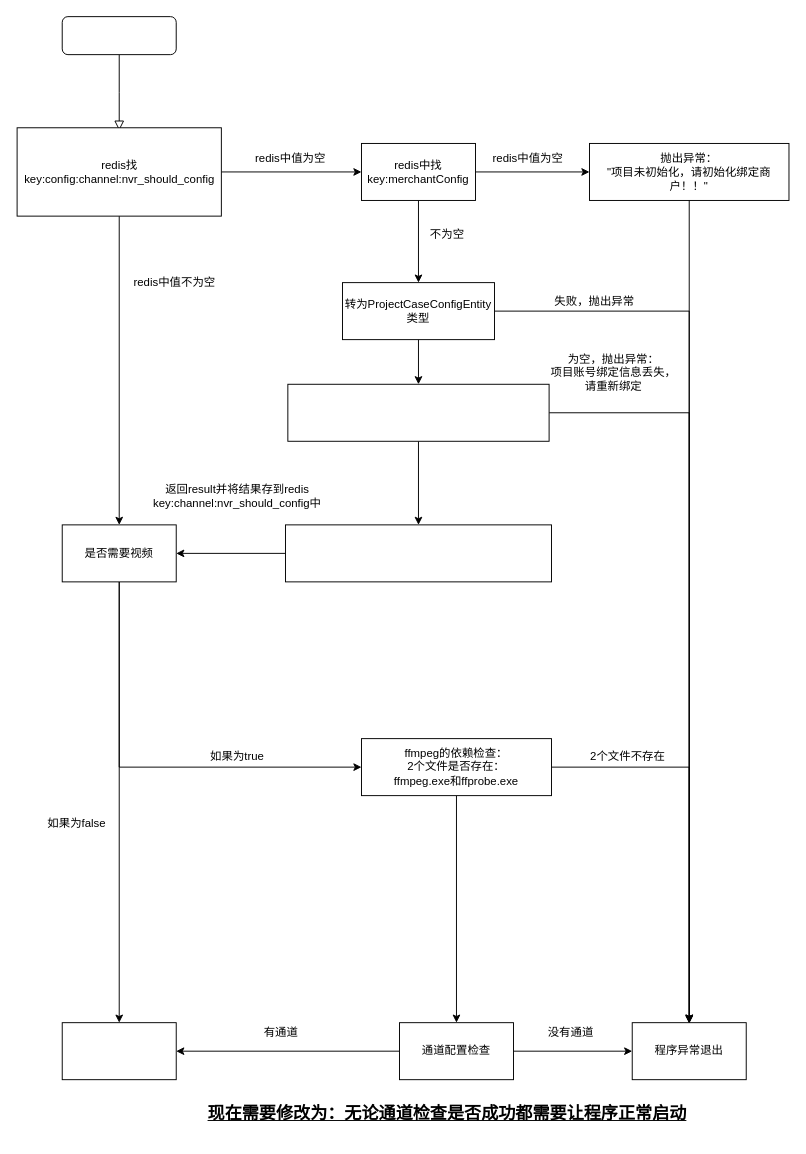
Some shapes in this 806 by 1154 pixel diagram are drawn without their labels. The shapes that lost their labels are listed below. From the top down, each one's centre as x and y in pixels, then its label:
point 118,35: 开始
point 418,412: ProjectCaseConfigEntity.getProjectId()
point 418,553: Boolean result = faceDetectApi.getScreenshots();
point 118,1051: 程序正常启动
